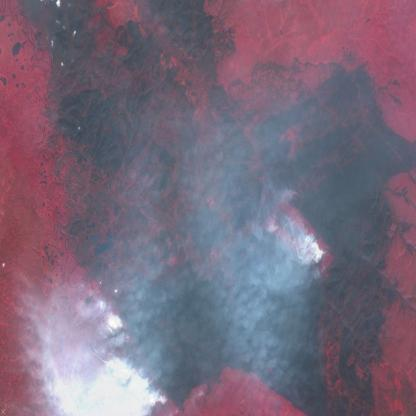fire: (104, 317, 175, 416), (310, 229, 332, 261)
